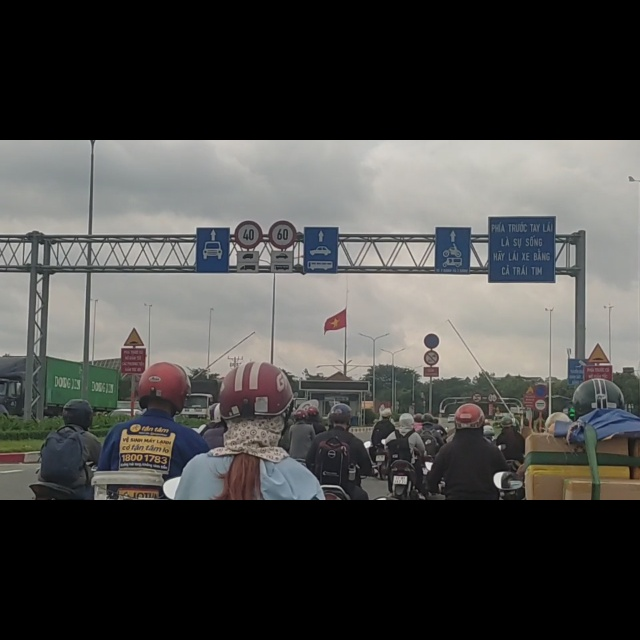bien_chi_dan: (234, 142, 263, 192), (269, 143, 297, 193), (587, 361, 611, 397), (568, 388, 585, 435), (124, 333, 144, 366), (424, 373, 440, 401), (424, 343, 439, 371), (535, 435, 548, 457), (535, 460, 547, 482), (487, 450, 498, 469), (473, 449, 483, 467), (524, 435, 534, 453)
